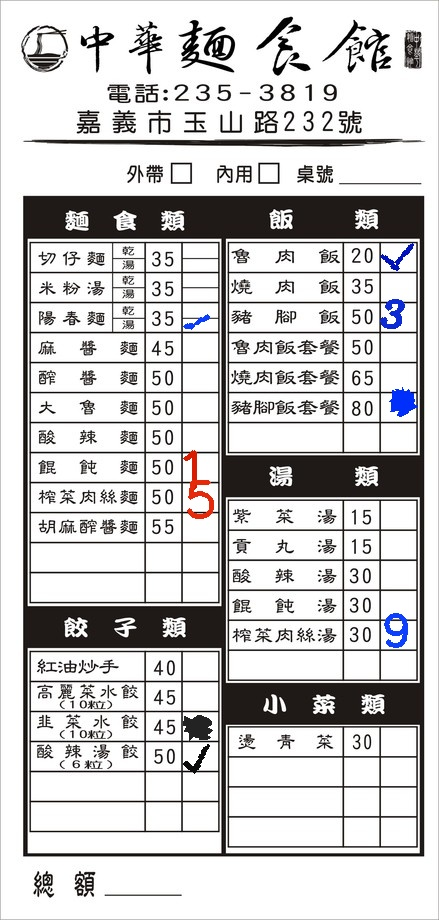marked_circle: (381, 393, 417, 422), (181, 711, 217, 740)
marked_number_1: (179, 453, 215, 482)
marked_number_3: (380, 302, 416, 331)
marked_number_5: (181, 483, 217, 512)
marked_number_9: (380, 619, 416, 648)
marked_tick: (381, 242, 417, 271), (182, 743, 218, 772), (183, 317, 217, 330)
